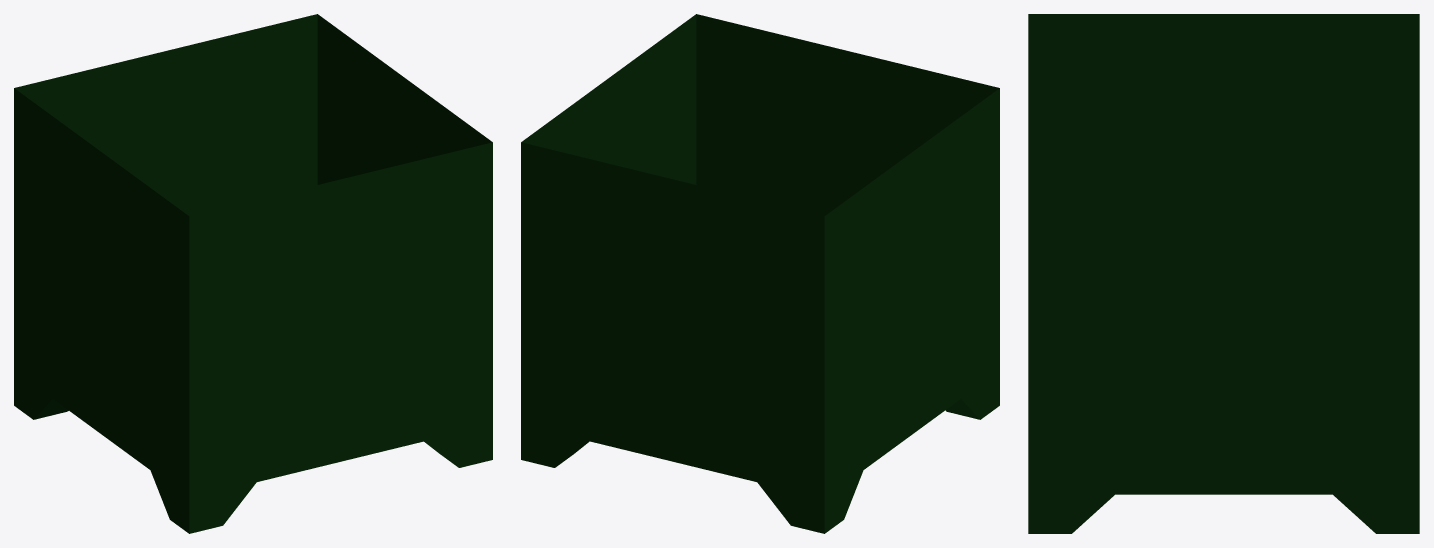
File: bin.obj
The picture shows the model from 3 angles, left to right: view 1: azimuth 30°, elevation 25°; view 2: azimuth 150°, elevation 25°; view 3: azimuth 270°, elevation 25°; orthographic projection. The views are drawn at different scales.
Parts seen in each view (by area): view 1: Cube; view 2: Cube; view 3: Cube.
Boxes of the visible parts, x1=… form: Cube: x1=14, y1=14, x2=492, y2=533; Cube: x1=521, y1=14, x2=999, y2=533; Cube: x1=1028, y1=14, x2=1419, y2=533.
Size of the model in its own units: 2 by 2 by 2.
